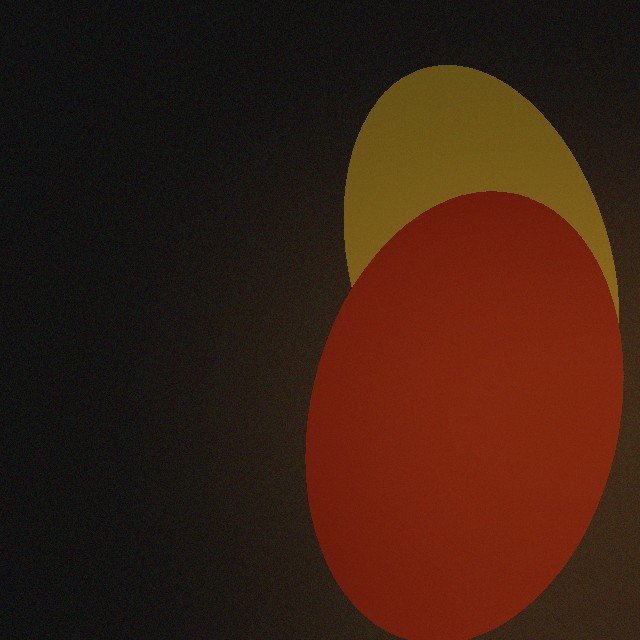fire: (395, 248, 563, 552)
